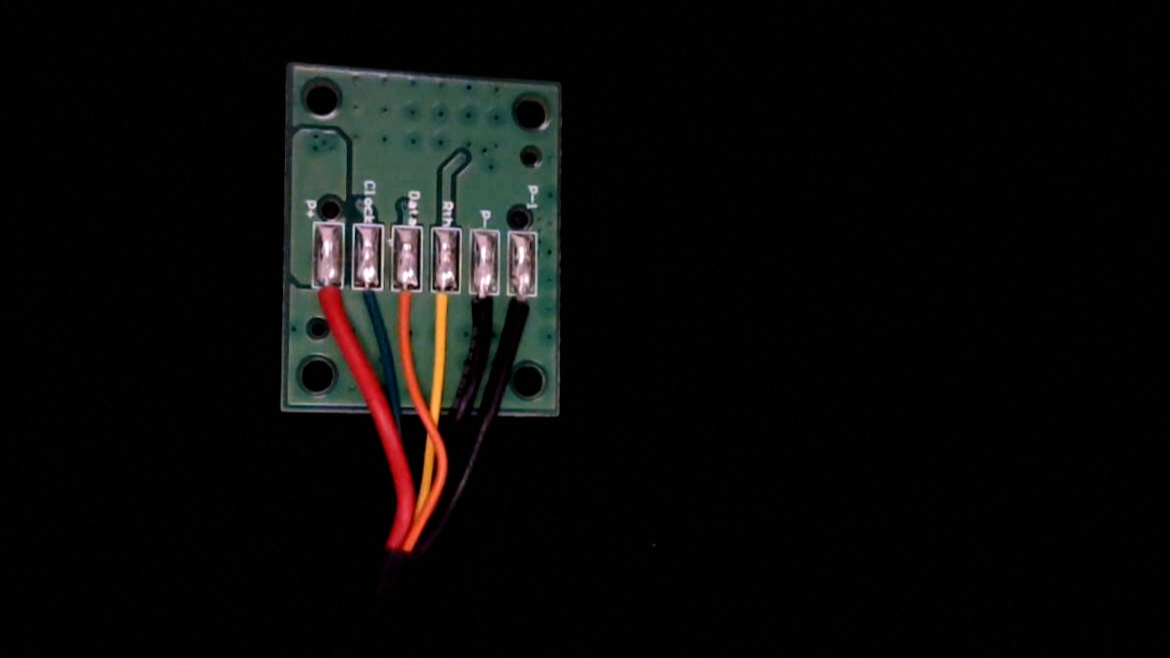Black: (467, 272, 499, 343)
Black1: (505, 275, 538, 348)
Green: (354, 269, 386, 338)
Orange: (390, 270, 421, 342)
Red: (313, 268, 346, 338)
Yellow: (431, 271, 458, 337)
